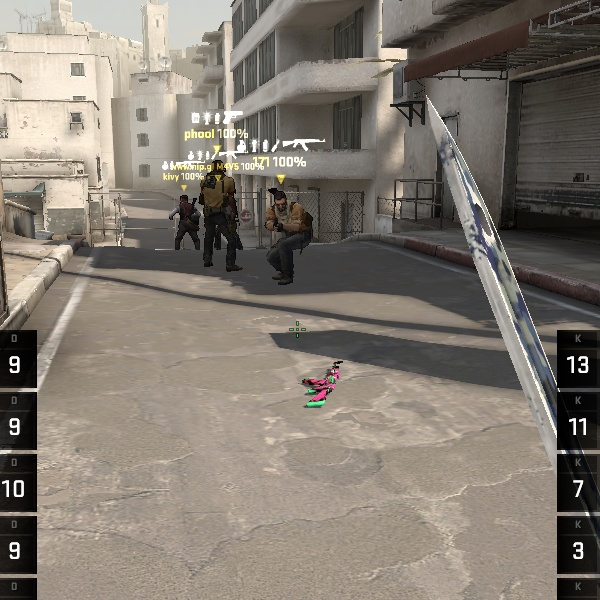t_body: (192, 160, 250, 268), (263, 188, 314, 285), (166, 192, 203, 254)
t_head: (272, 189, 289, 213), (210, 160, 226, 177), (179, 194, 189, 205)
